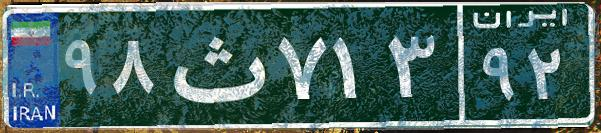1: (330, 28, 385, 110)
2: (525, 38, 570, 115)
3: (385, 28, 445, 110)
7: (273, 28, 330, 110)
8: (110, 28, 158, 105)
9: (57, 26, 110, 107), (475, 38, 525, 113)
ث: (158, 15, 273, 115)
